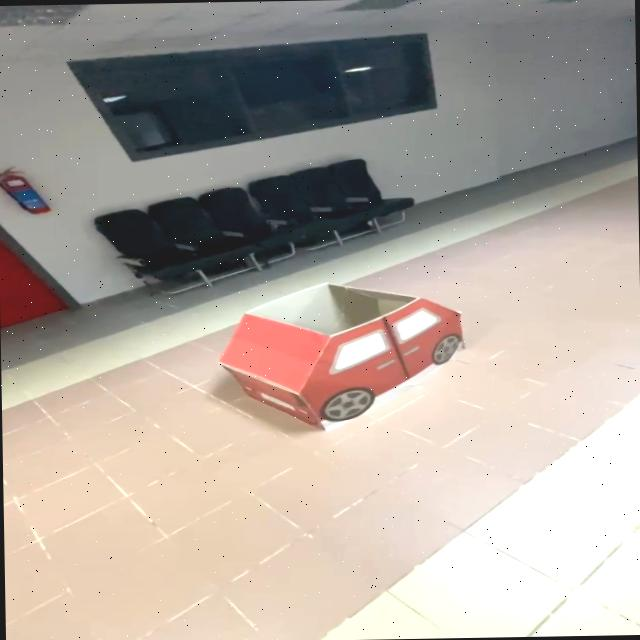red_car: (168, 269, 496, 449)
